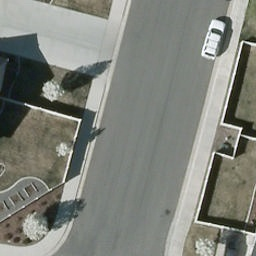car: (200, 20, 229, 64)
